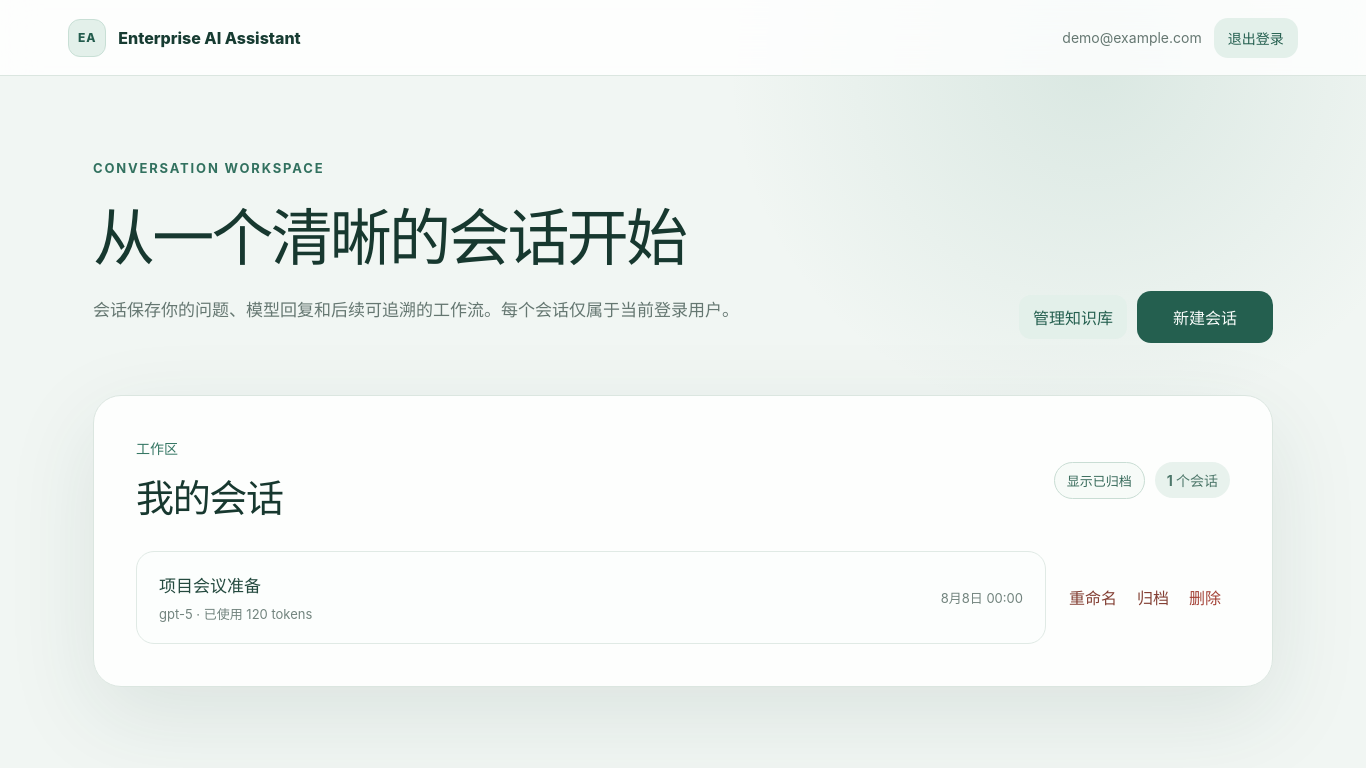
Test: HomeView › 可切换到包含归档会话的列表，并展示归档标记
Step 1. Click the button with test id "toggle-archived" → click(1099, 480), box top-left (1054, 462), bottom-right (1145, 499)
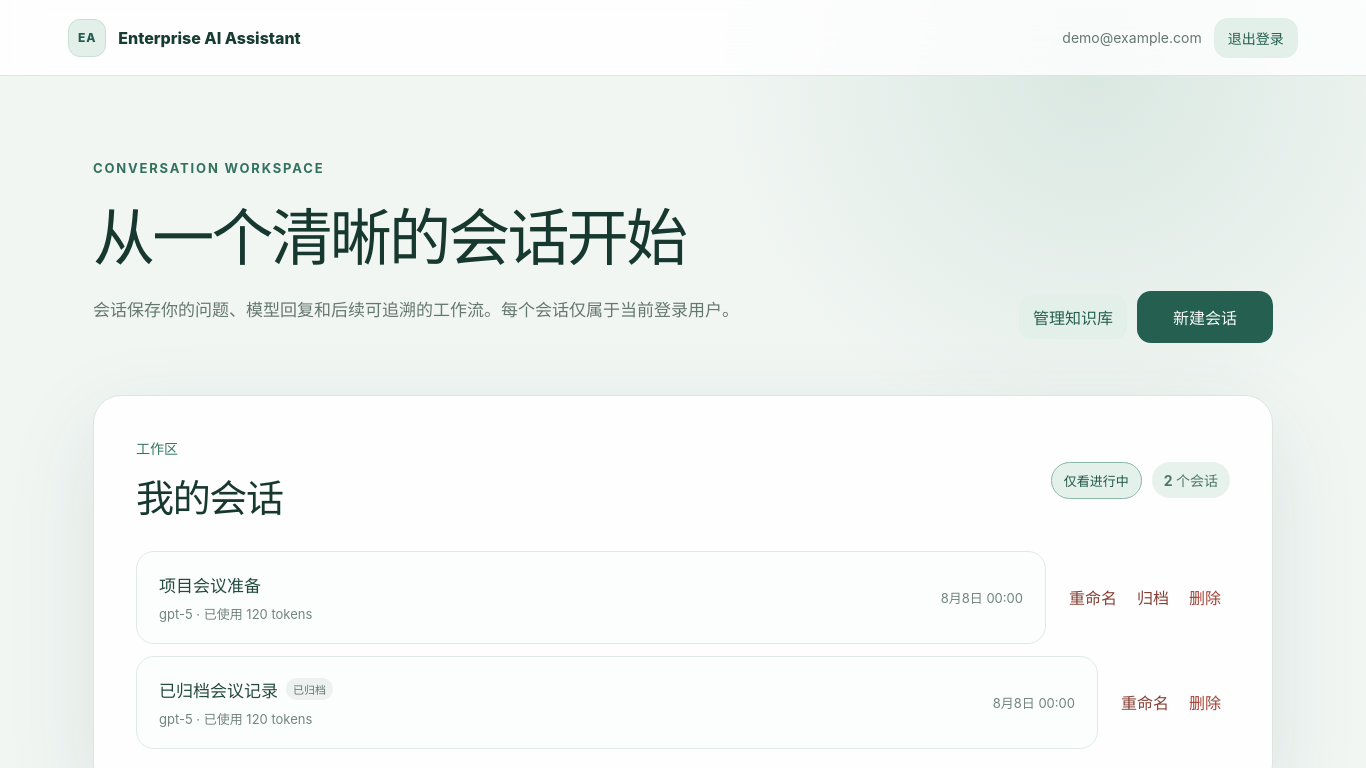
Expected: the text with test id "archived-badge" reads "已归档", top-left (293, 683), bottom-right (326, 697)
